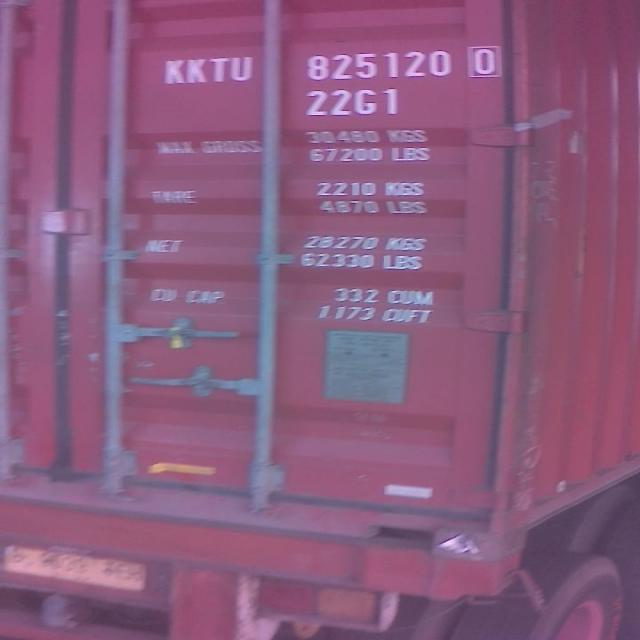seal: (167, 323, 191, 353)
